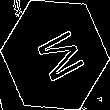M_SW: (26, 24, 84, 86)
